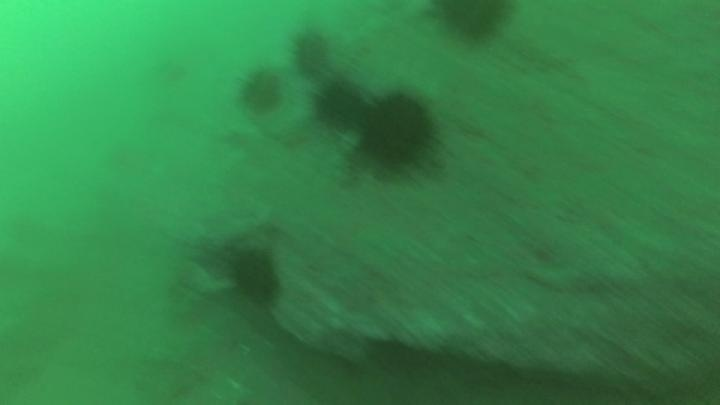echinus: (355, 88, 440, 176), (428, 1, 515, 46), (226, 245, 283, 308), (312, 78, 368, 131), (236, 64, 286, 118), (288, 27, 334, 80)
